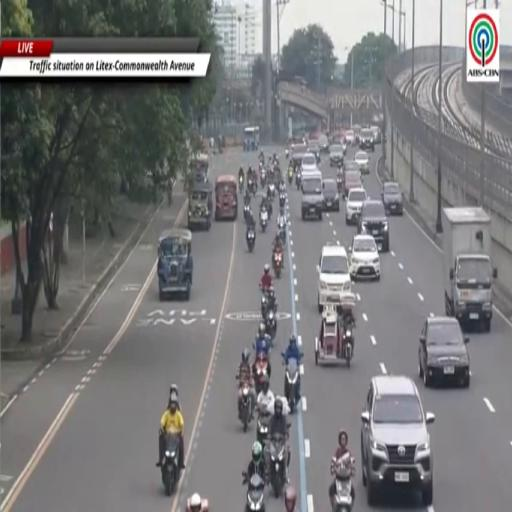car: (361, 376, 434, 506), (419, 316, 470, 387), (317, 245, 351, 312), (357, 200, 389, 252), (349, 235, 380, 280), (301, 170, 323, 220), (346, 187, 367, 225), (382, 182, 403, 215), (343, 171, 362, 198), (323, 179, 339, 211), (359, 129, 375, 152), (355, 151, 369, 174), (330, 144, 344, 167), (292, 144, 306, 166), (301, 153, 317, 172), (307, 141, 320, 163), (343, 160, 360, 172), (318, 135, 329, 152), (371, 126, 381, 143), (353, 125, 361, 145), (345, 130, 355, 145), (342, 140, 347, 155)
jeepney: (158, 229, 193, 300), (188, 182, 212, 230), (215, 175, 238, 220), (191, 153, 209, 182), (243, 126, 259, 151)
motorcycle: (331, 454, 354, 511), (269, 433, 287, 498), (161, 434, 179, 495), (242, 472, 264, 511), (285, 359, 299, 412), (239, 383, 251, 433), (255, 354, 267, 395), (341, 326, 353, 367), (257, 411, 271, 445), (265, 310, 276, 340), (246, 226, 256, 253), (273, 251, 282, 278), (278, 218, 285, 244), (260, 210, 268, 232), (336, 175, 344, 194), (261, 293, 267, 318), (248, 178, 256, 196), (296, 169, 302, 190), (268, 183, 275, 199), (261, 168, 266, 188), (244, 205, 250, 221), (279, 192, 285, 207), (239, 176, 244, 194), (267, 200, 272, 217), (288, 168, 293, 184), (285, 150, 288, 159)
tricycle: (315, 295, 354, 366)
truck: (442, 206, 497, 331)
